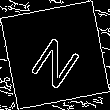N_NE: (24, 23, 86, 87)
